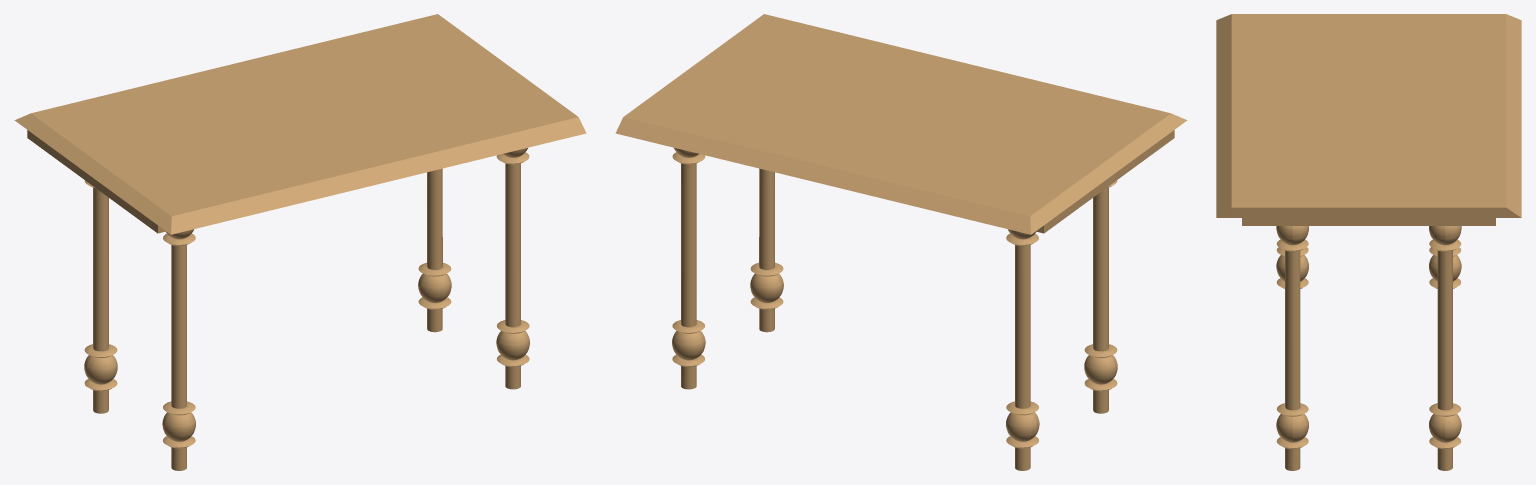
The picture shows the model from 3 angles, left to right: view 1: azimuth 30°, elevation 25°; view 2: azimuth 150°, elevation 25°; view 3: azimuth 270°, elevation 25°; orthographic projection. The views are drawn at different scales.
Parts seen in each view (by area): view 1: Mesh1_Group2_Group1_Component_21_1_Component_10_1_Model; view 2: Mesh1_Group2_Group1_Component_21_1_Component_10_1_Model; view 3: Mesh1_Group2_Group1_Component_21_1_Component_10_1_Model.
Part boxes in pixels (x1,y1,x2,y2): Mesh1_Group2_Group1_Component_21_1_Component_10_1_Model: (14,14,586,470); Mesh1_Group2_Group1_Component_21_1_Component_10_1_Model: (615,14,1187,470); Mesh1_Group2_Group1_Component_21_1_Component_10_1_Model: (1216,14,1521,470).
Size of the model in its own units: 1.39 by 0.9072 by 0.9072.
